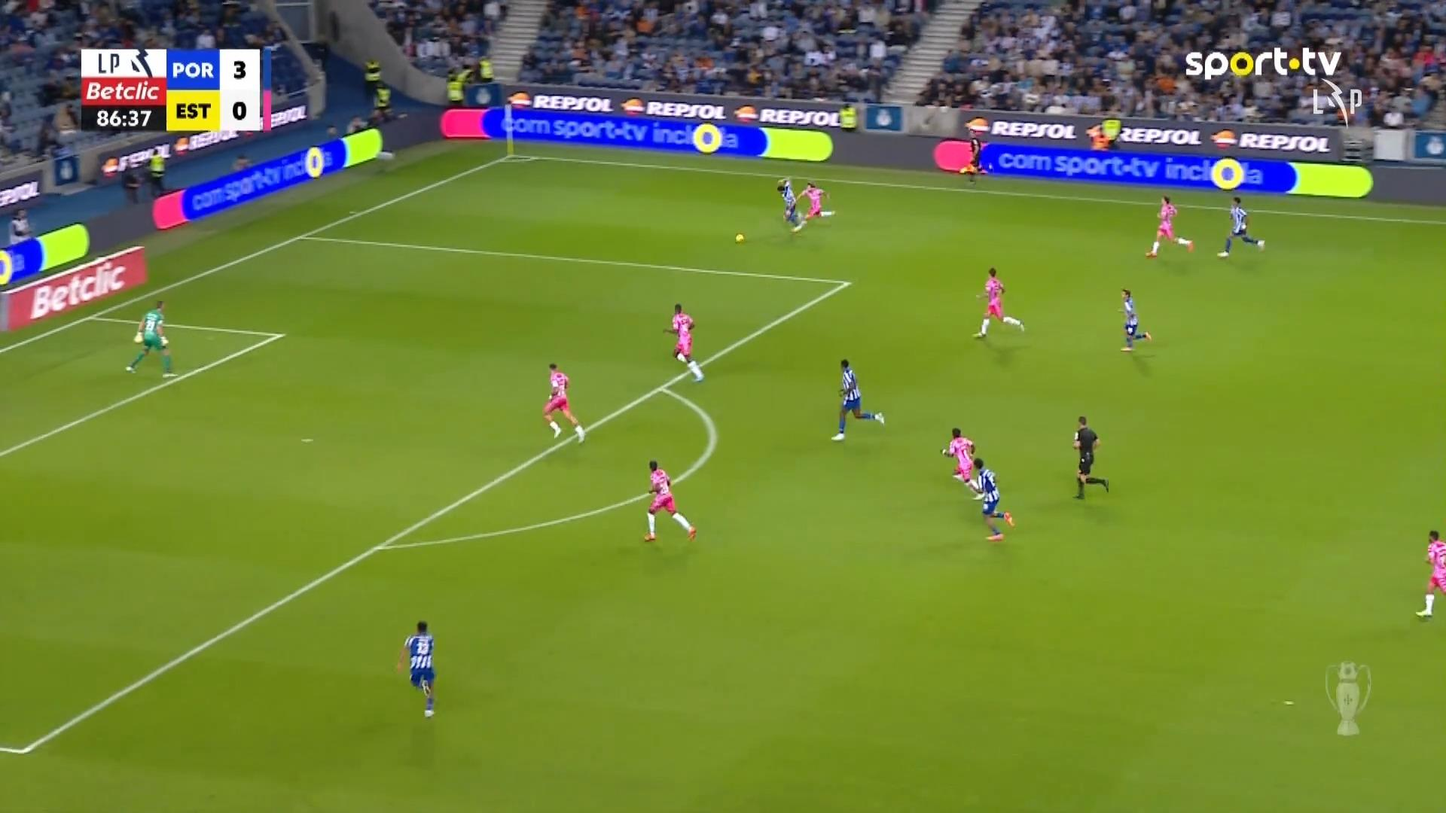ball: (734, 233, 744, 242)
goalkeeper: (124, 298, 176, 377)
player: (642, 458, 697, 542), (830, 358, 886, 440), (396, 620, 436, 717), (973, 266, 1025, 339), (969, 457, 1014, 540), (541, 361, 585, 443), (662, 303, 704, 382), (940, 427, 983, 499), (1145, 194, 1193, 257), (1216, 195, 1264, 258), (1415, 529, 1444, 617), (1118, 288, 1152, 352), (776, 176, 806, 232), (796, 181, 830, 218)
referee: (1071, 415, 1109, 499), (958, 137, 987, 185)
